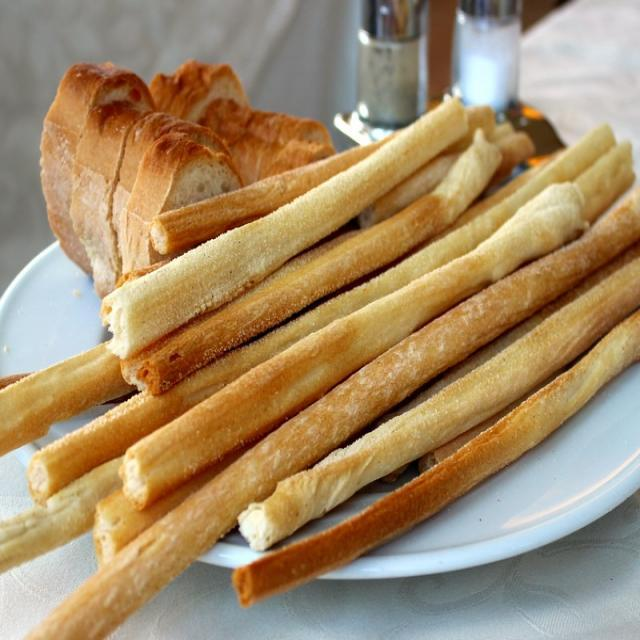Bread: (25, 57, 347, 278)
Grissini: (9, 113, 640, 609)
